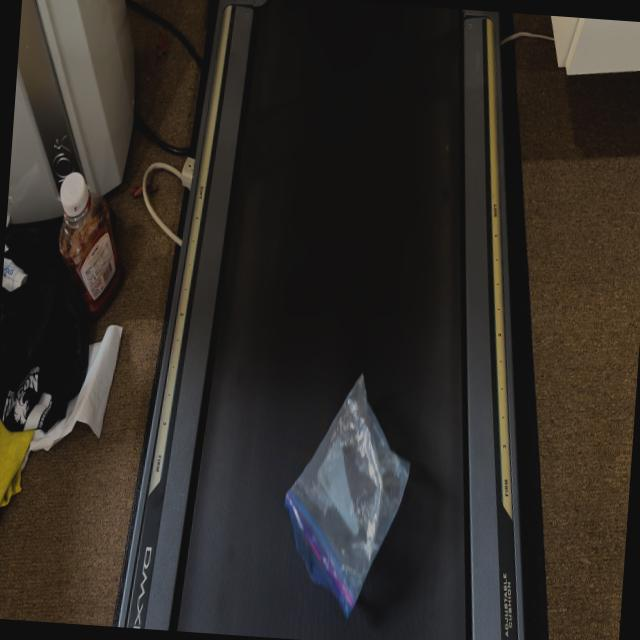Trash: (272, 362, 420, 629)
